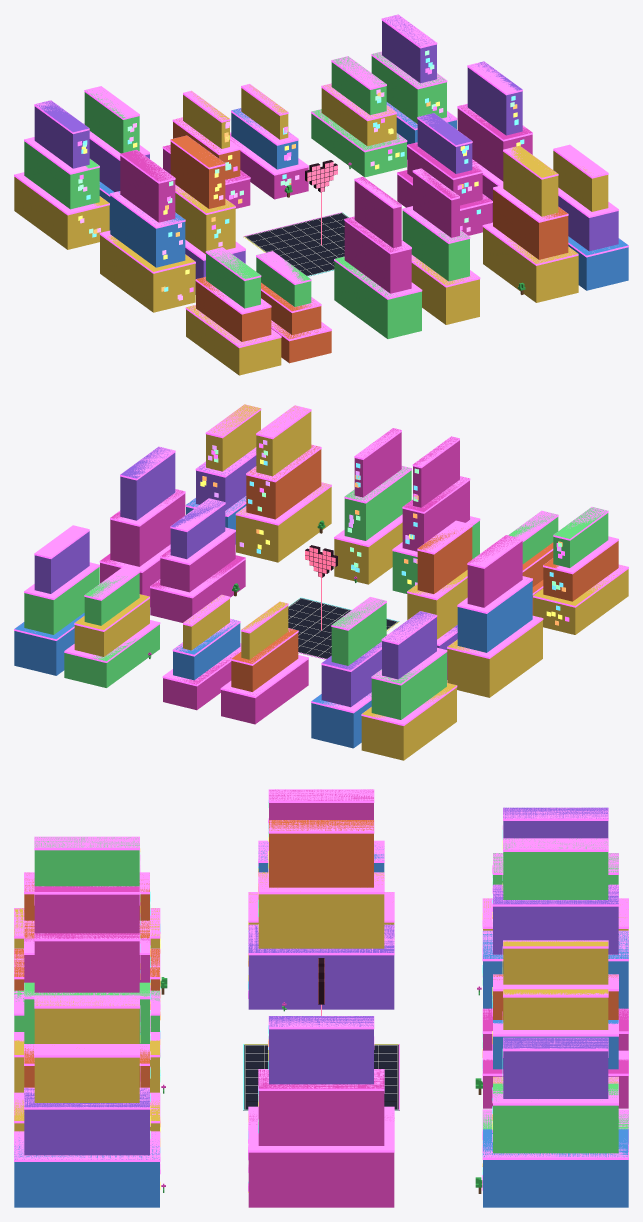
The picture shows the model from 3 angles, top to bottom: view 1: azimuth 30°, elevation 25°; view 2: azimuth 150°, elevation 25°; view 3: azimuth 270°, elevation 25°; orthographic projection. The views are drawn at different scales.
Visible parts, largest first — view 1: district_city_pixel.lod0; view 2: district_city_pixel.lod0; view 3: district_city_pixel.lod0.
Part boxes in pixels (x1,y1,x2,y2): district_city_pixel.lod0: (14, 14, 628, 375); district_city_pixel.lod0: (14, 404, 628, 760); district_city_pixel.lod0: (14, 789, 628, 1207).
Size of the model in its own units: 97.1 by 29.96 by 97.1.
